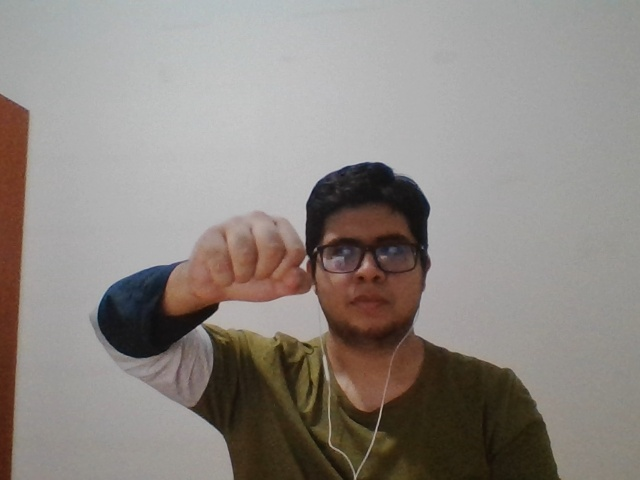Yes: (175, 209, 316, 308)
